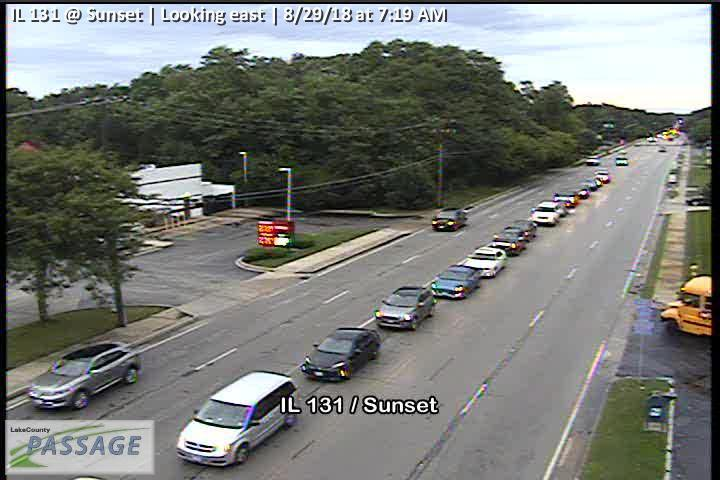SUV: (174, 370, 298, 469)
Sedan: (28, 341, 144, 411), (298, 324, 381, 382), (372, 285, 437, 328), (430, 264, 481, 298), (462, 245, 507, 280), (491, 230, 525, 255), (530, 199, 564, 224), (431, 207, 467, 229), (505, 218, 538, 240), (553, 188, 580, 209)
